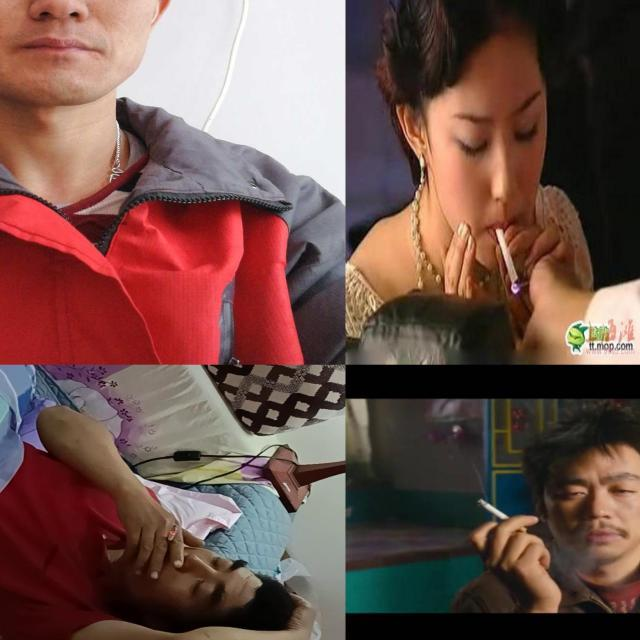smoke: (476, 498, 530, 532), (494, 225, 520, 288), (166, 524, 178, 546)
